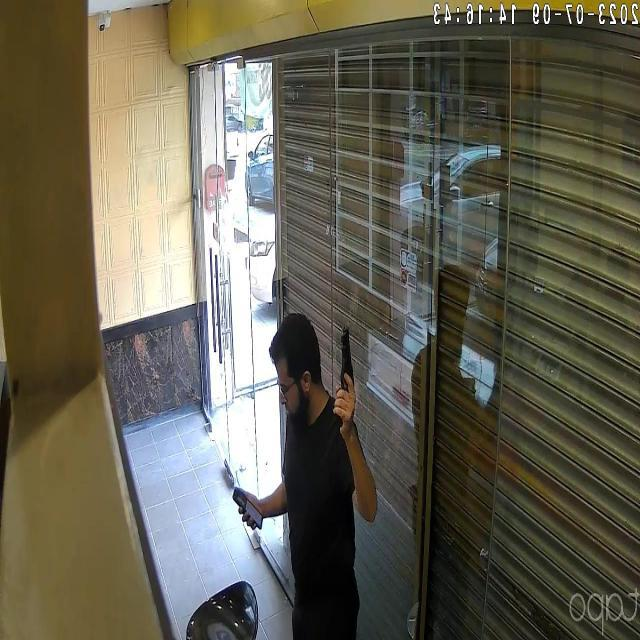Gun: (332, 320, 366, 408)
